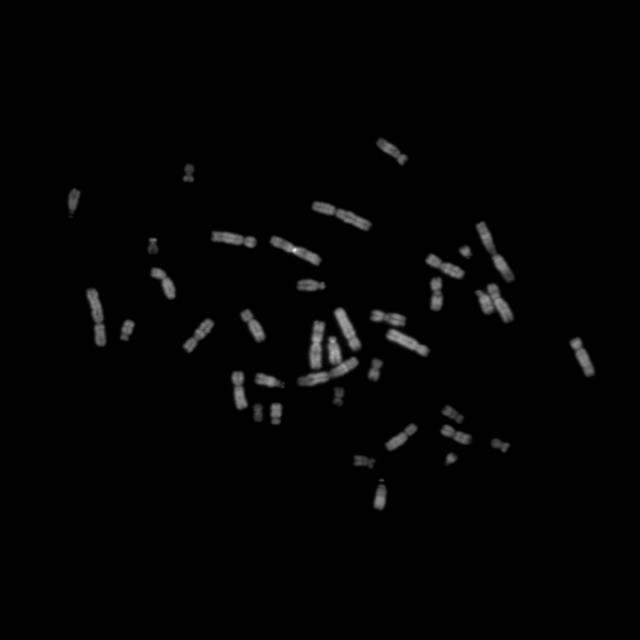chromosome: (477, 222, 513, 282), (297, 357, 359, 387), (312, 200, 370, 232), (270, 236, 322, 266), (334, 306, 362, 352), (386, 329, 429, 357), (88, 288, 107, 348), (488, 281, 514, 323), (426, 253, 464, 280), (184, 318, 213, 352), (571, 337, 595, 378), (386, 422, 416, 450), (242, 308, 266, 342), (378, 138, 407, 166), (212, 230, 256, 248), (151, 268, 175, 300), (310, 320, 326, 368), (232, 371, 248, 409), (370, 310, 406, 326), (441, 426, 471, 444), (254, 372, 286, 388), (476, 290, 492, 318), (328, 336, 342, 366), (373, 480, 387, 510), (431, 277, 443, 311), (67, 188, 80, 218), (369, 357, 383, 381), (443, 408, 463, 424), (120, 321, 135, 341), (297, 280, 325, 290), (354, 456, 374, 470), (492, 437, 508, 453), (270, 404, 282, 424), (332, 386, 343, 406), (183, 165, 195, 183), (253, 404, 263, 424), (147, 238, 159, 254), (444, 452, 456, 466), (460, 245, 472, 259)
